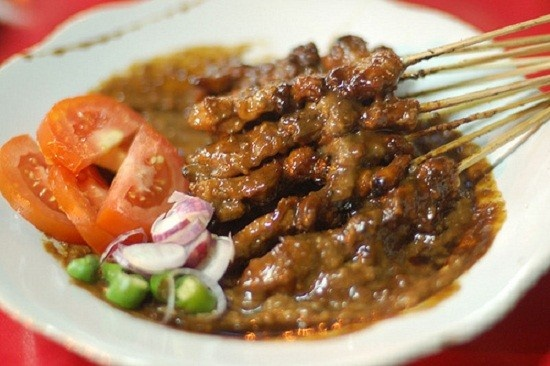sate: (158, 29, 483, 312)
